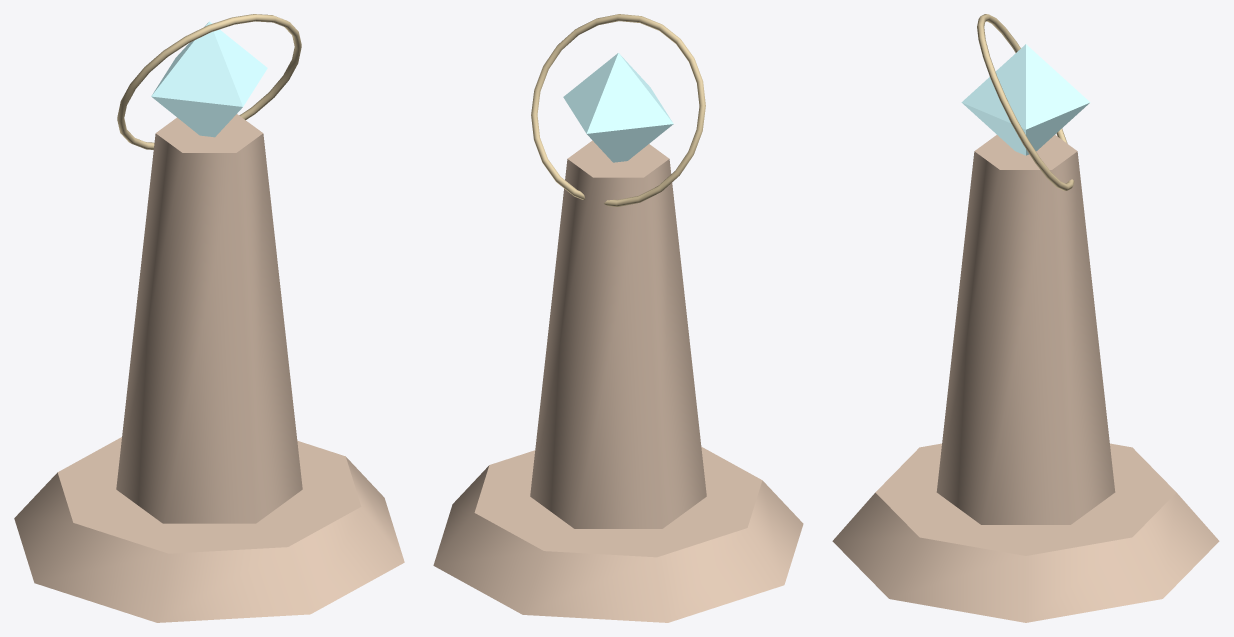
Rendered from prop-checkpoint.glb.
3 views of the same model, side by side, from view 1: azimuth 30°, elevation 25°; view 2: azimuth 150°, elevation 25°; view 3: azimuth 270°, elevation 25° (orthographic). The views are drawn at different scales.
Parts seen in each view (by area): view 1: checkpoint; view 2: checkpoint; view 3: checkpoint.
Boxes of the visible parts, left/top/right/bottom form: checkpoint: left=14, top=14, right=404, bottom=622; checkpoint: left=433, top=14, right=803, bottom=622; checkpoint: left=832, top=14, right=1219, bottom=622.
Size of the model in its own units: 1.8 by 2.65 by 1.8.
